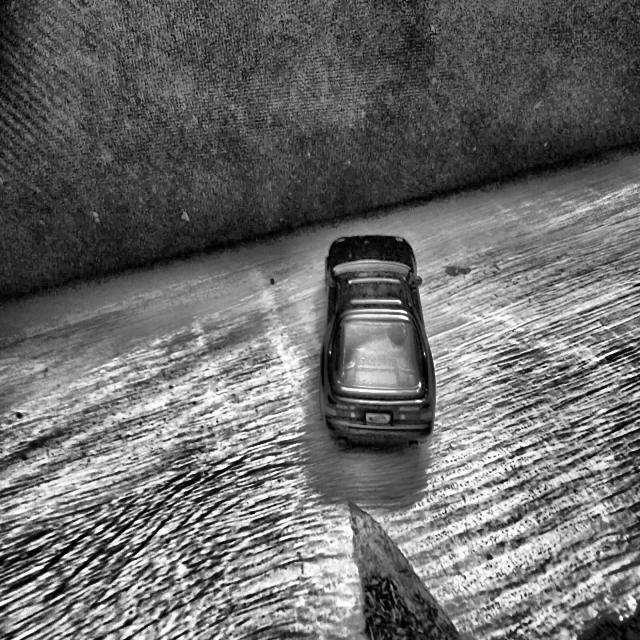car: (319, 232, 436, 447)
